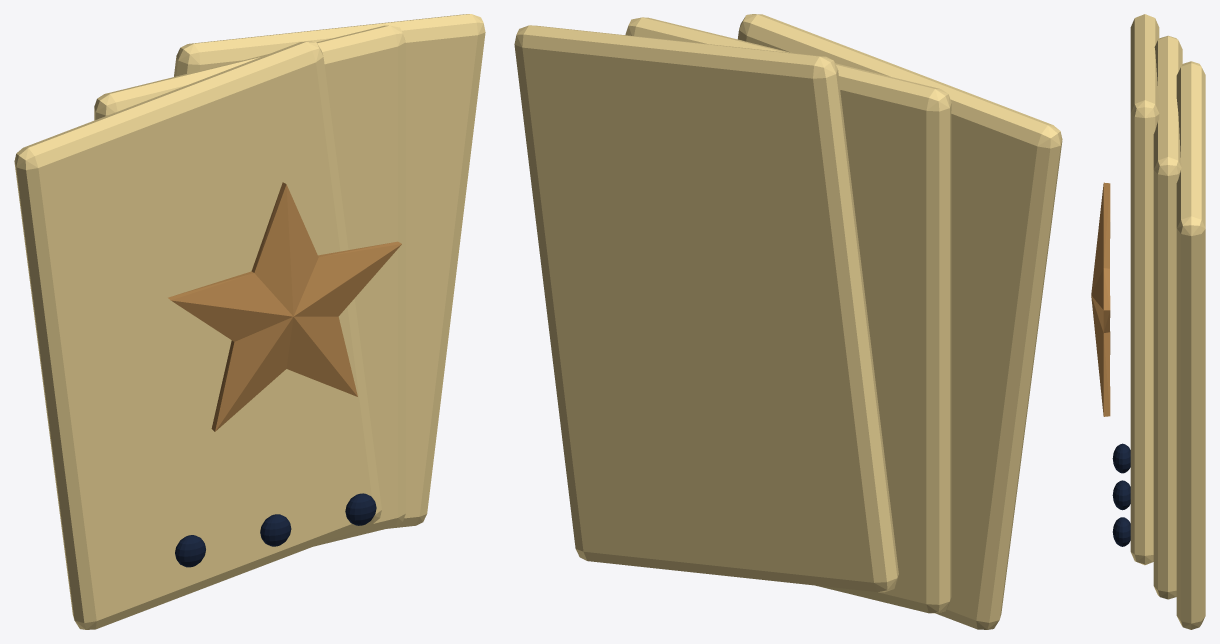
File: Item_redraw_card.fbx
3 views of the same model, side by side, from view 1: azimuth 30°, elevation 25°; view 2: azimuth 150°, elevation 25°; view 3: azimuth 270°, elevation 25° (orthographic). The views are drawn at different scales.
Visible parts, largest first — view 1: Item_redraw_card.Mesh; view 2: Item_redraw_card.Mesh; view 3: Item_redraw_card.Mesh.
Part boxes in pixels (bbox=[...]): Item_redraw_card.Mesh: bbox=[14, 14, 485, 629]; Item_redraw_card.Mesh: bbox=[514, 14, 1062, 629]; Item_redraw_card.Mesh: bbox=[1091, 14, 1205, 629].
Size of the model in its own units: 60.87 by 62.97 by 13.85.
